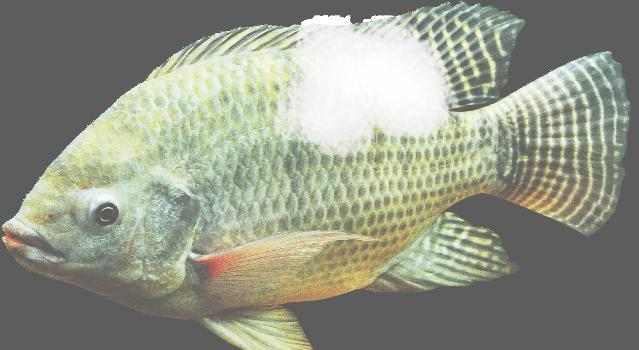Fungal Disease -Saprolegniasis-: (2, 4, 630, 349), (2, 4, 630, 348)
